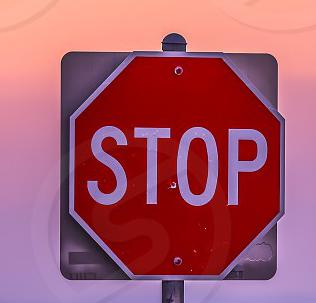Stop sign: (0, 0, 315, 302)
